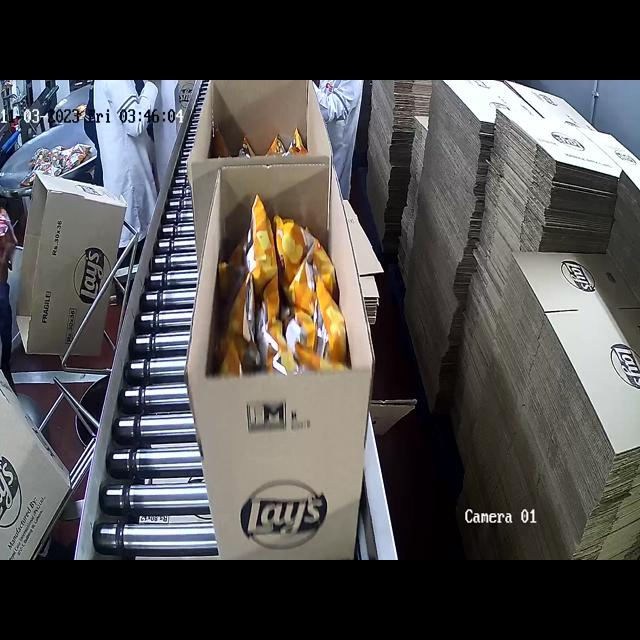cheese: (230, 210, 344, 371), (221, 123, 310, 158)
